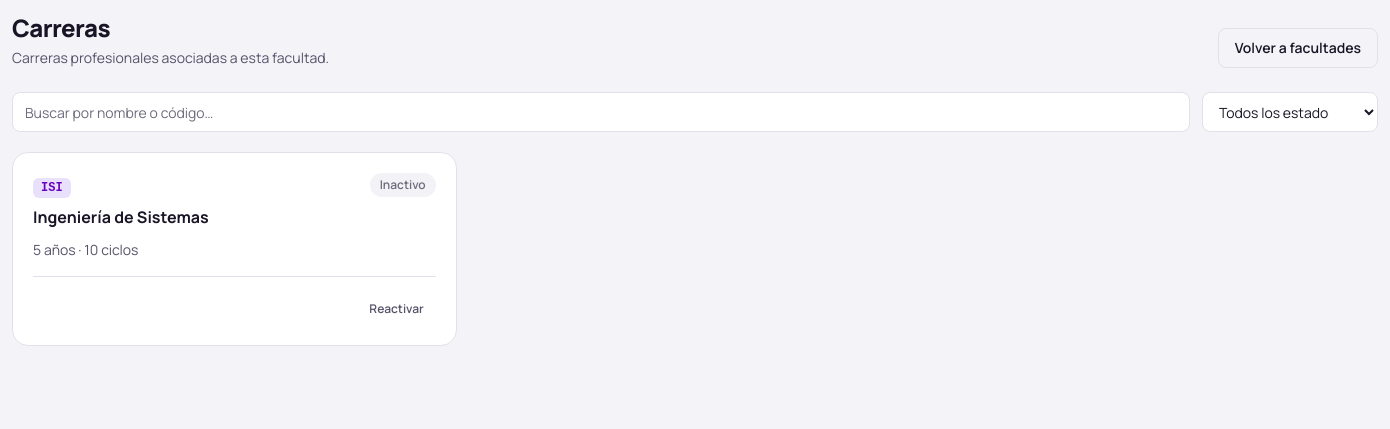
Test: CarrerasPage — Inactivar y Reactivar (RF-CH-023) › si el servidor rechaza la reactivación, muestra su motivo
The image size is (1390, 429).
Click the button "Reactivar" at [396, 309], box [357,293,436,325]
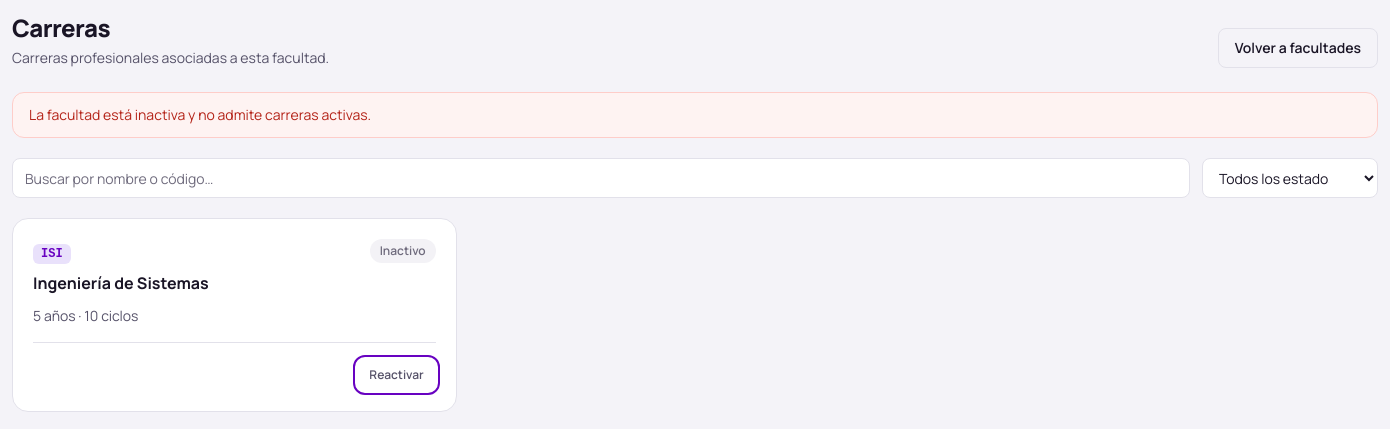
Expected: the text "La facultad está inactiva y no admite carreras activas." is shown, [12,92,1378,138]
